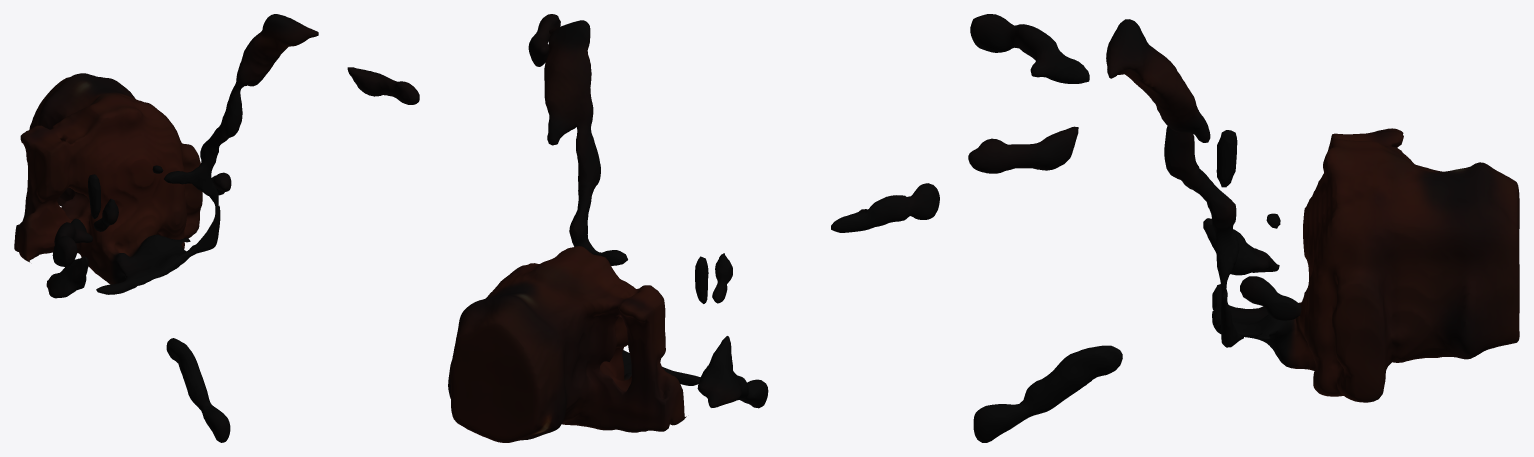
3 views of the same model, side by side, from view 1: azimuth 30°, elevation 25°; view 2: azimuth 150°, elevation 25°; view 3: azimuth 270°, elevation 25° (orthographic). The views are drawn at different scales.
Visible parts, largest first — view 1: plyFile; view 2: plyFile; view 3: plyFile.
Boxes of the visible parts, x1,y1,x2,y2 form: plyFile: [14, 14, 419, 442]; plyFile: [448, 14, 939, 442]; plyFile: [968, 14, 1519, 442].
Bounding box in the file's own units: 189 × 183 × 186.
